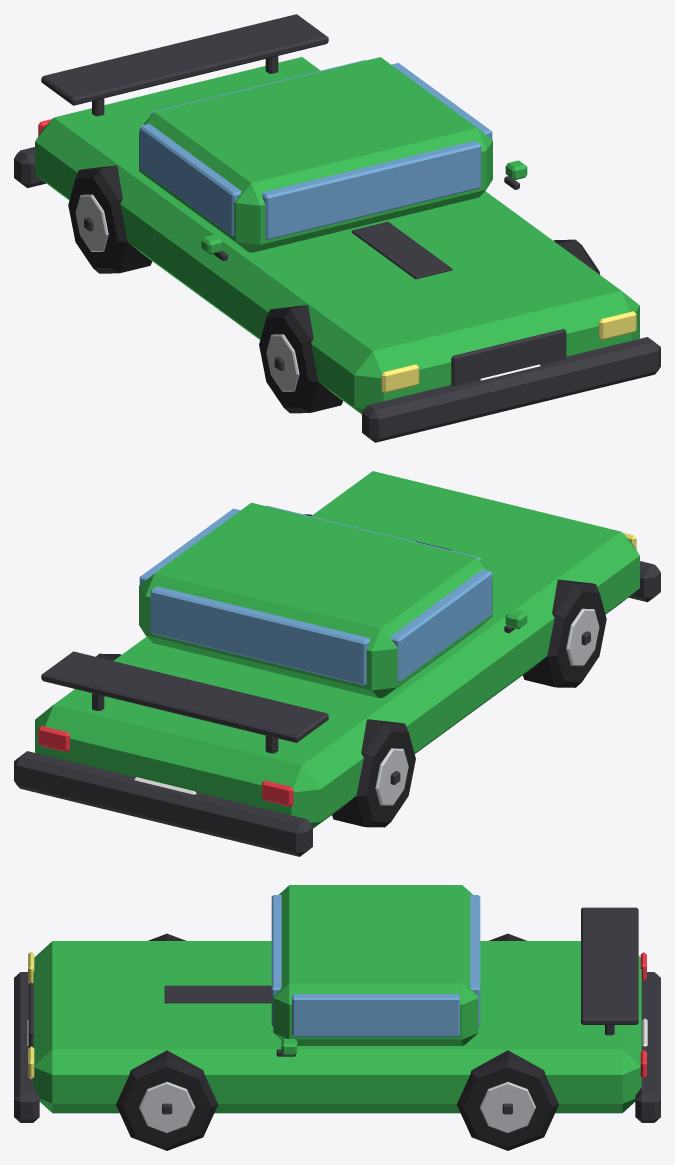
The model's file is GreenSportsCar.fbx.
3 views of the same model, one above another, from view 1: azimuth 30°, elevation 25°; view 2: azimuth 150°, elevation 25°; view 3: azimuth 270°, elevation 25° (orthographic). The views are drawn at different scales.
Visible parts, largest first — view 1: GreenSportsCar, GreenSportsCar_WheelBR, GreenSportsCar_WheelFR; view 2: GreenSportsCar, GreenSportsCar_WheelBR, GreenSportsCar_WheelFR; view 3: GreenSportsCar, GreenSportsCar_WheelBL, GreenSportsCar_WheelFL.
Part boxes in pixels (left/top/right/bottom): GreenSportsCar: left=14, top=14, right=660, bottom=442; GreenSportsCar_WheelBR: left=68, top=165, right=152, bottom=273; GreenSportsCar_WheelFR: left=259, top=305, right=342, bottom=413; GreenSportsCar: left=14, top=471, right=660, bottom=856; GreenSportsCar_WheelBR: left=332, top=719, right=415, bottom=827; GreenSportsCar_WheelFR: left=522, top=579, right=606, bottom=687; GreenSportsCar: left=14, top=885, right=660, bottom=1122; GreenSportsCar_WheelBL: left=456, top=1050, right=558, bottom=1150; GreenSportsCar_WheelFL: left=116, top=1050, right=218, bottom=1150.
Bounding box in the file's own units: 5.15 × 2.66 × 10.1.
Materials: 1 (1 with a texture image).
